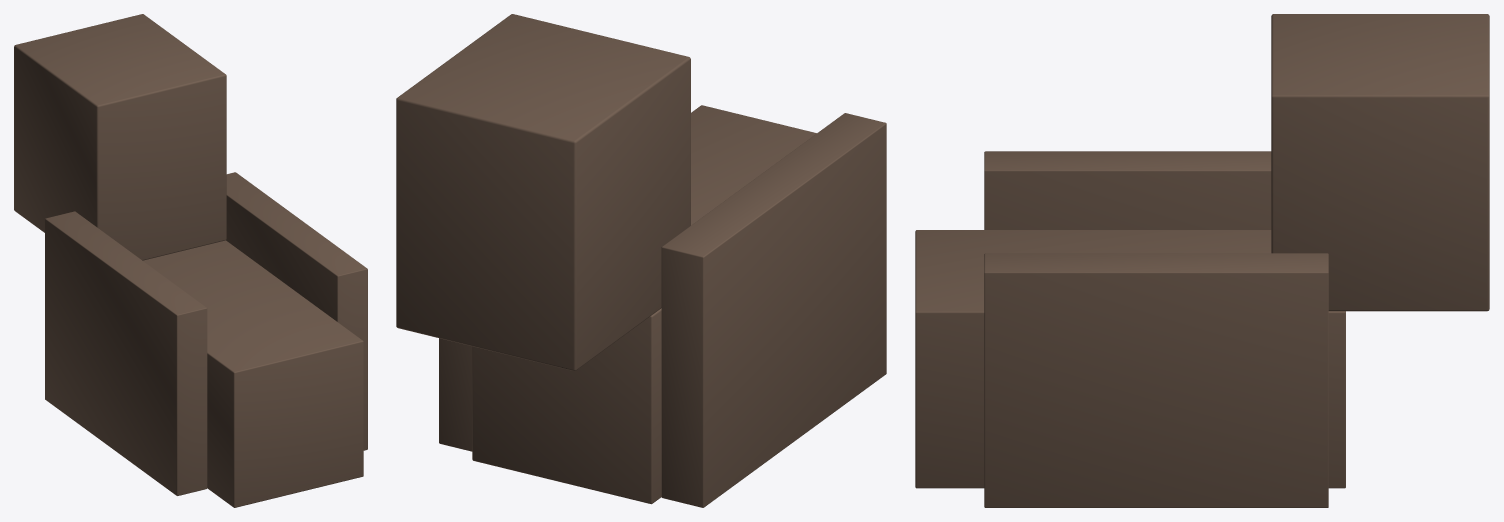
3 renders of one model, left to right at view 1: azimuth 30°, elevation 25°; view 2: azimuth 150°, elevation 25°; view 3: azimuth 270°, elevation 25°, orthographic. The views are drawn at different scales.
Visible parts, largest first — view 1: MH81RR; view 2: MH81RR; view 3: MH81RR.
Part boxes in pixels (x1,y1,x2,y2): MH81RR: [14, 14, 367, 507]; MH81RR: [396, 14, 886, 507]; MH81RR: [915, 14, 1489, 507].
Size of the model in its own units: 0.755 by 1.14 by 1.51.
